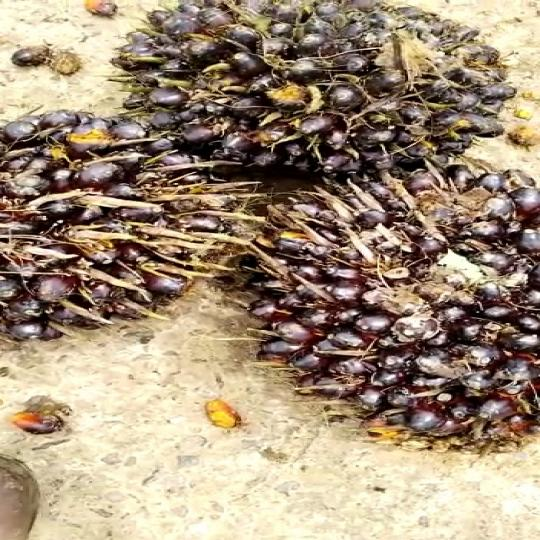mentah: (199, 155, 540, 454), (108, 3, 514, 174), (0, 102, 238, 348)
